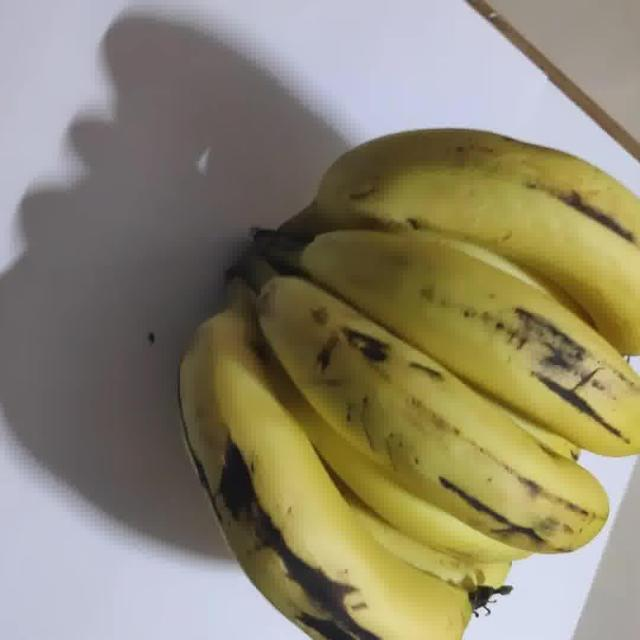Banana: (180, 130, 639, 639)
